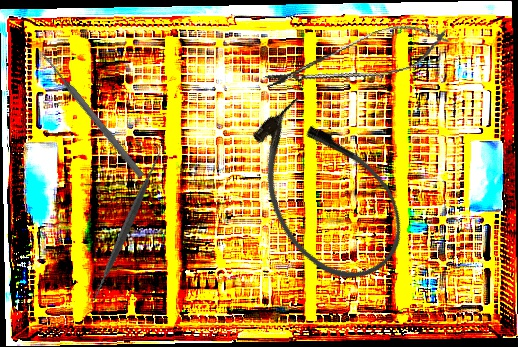Cannula: (225, 82, 425, 303)
Micro Scissor: (259, 13, 455, 106)
Pusher: (39, 50, 146, 180)
Spatula Surgical: (49, 150, 203, 305)
